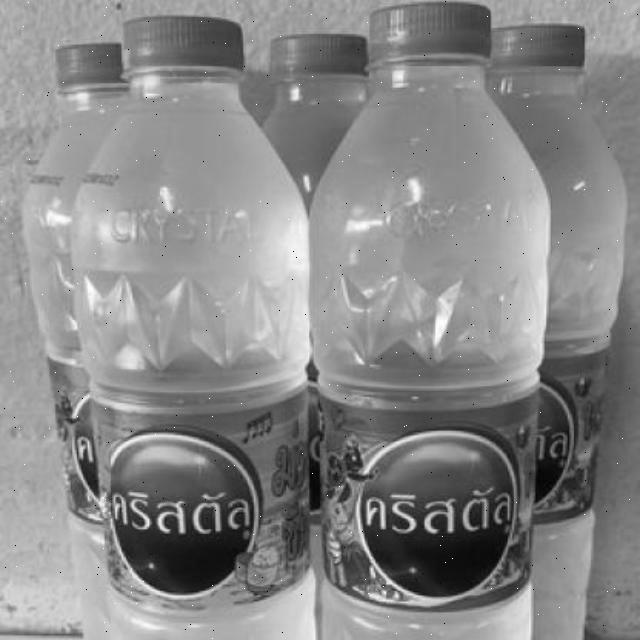bottle: (62, 10, 318, 635), (346, 9, 563, 640), (466, 22, 638, 640), (11, 12, 165, 640), (259, 24, 386, 220)
